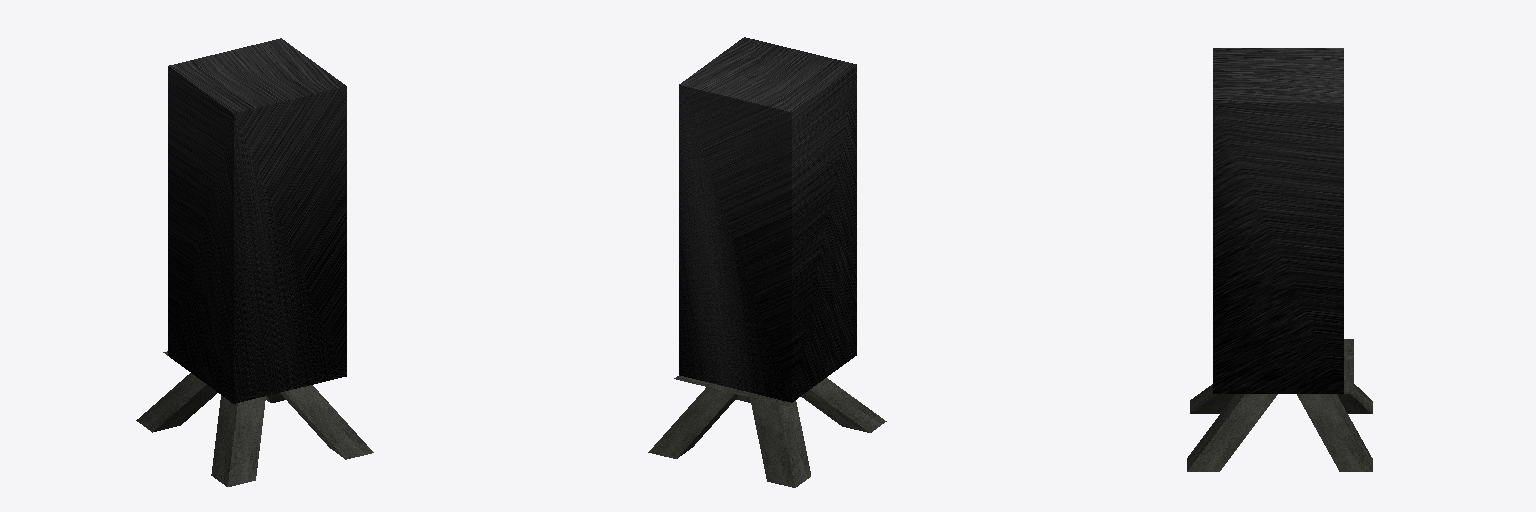
3 views of the same model, side by side, from view 1: azimuth 30°, elevation 25°; view 2: azimuth 150°, elevation 25°; view 3: azimuth 270°, elevation 25° (orthographic).
Size of the model in its own units: 1.17 by 2.75 by 1.28.
Materials: 2 (2 with a texture image).